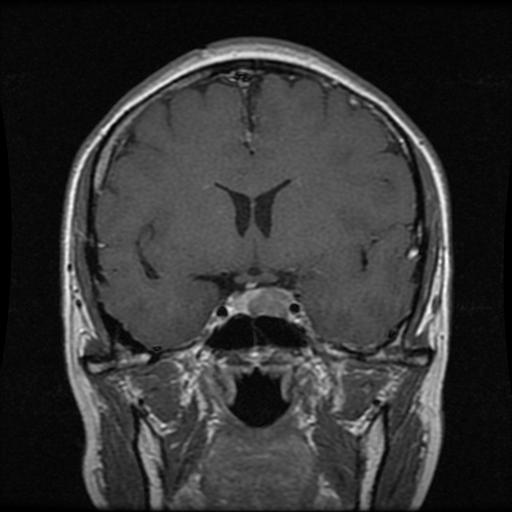Pituirity_tumour: (227, 287, 291, 318)
